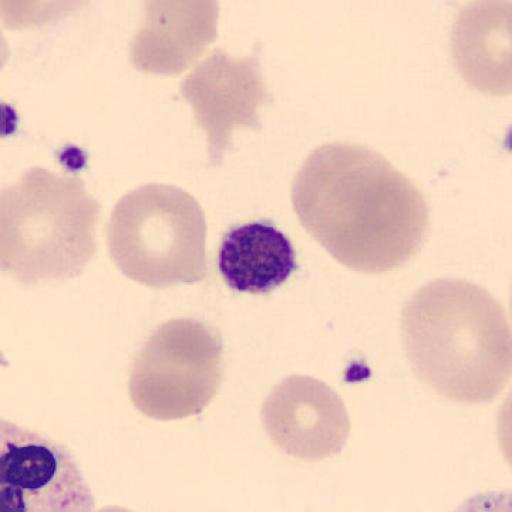Platelet: (213, 216, 303, 298)
RBC: (290, 138, 430, 276), (397, 273, 512, 407), (289, 138, 412, 248), (2, 162, 102, 286), (103, 178, 208, 292), (179, 48, 272, 172), (125, 316, 228, 422), (257, 371, 352, 464), (289, 139, 375, 238), (129, 0, 221, 78), (446, 0, 512, 97), (1, 0, 89, 32), (442, 486, 511, 512), (495, 390, 512, 472), (75, 502, 160, 512)
WBC: (0, 417, 98, 511)
